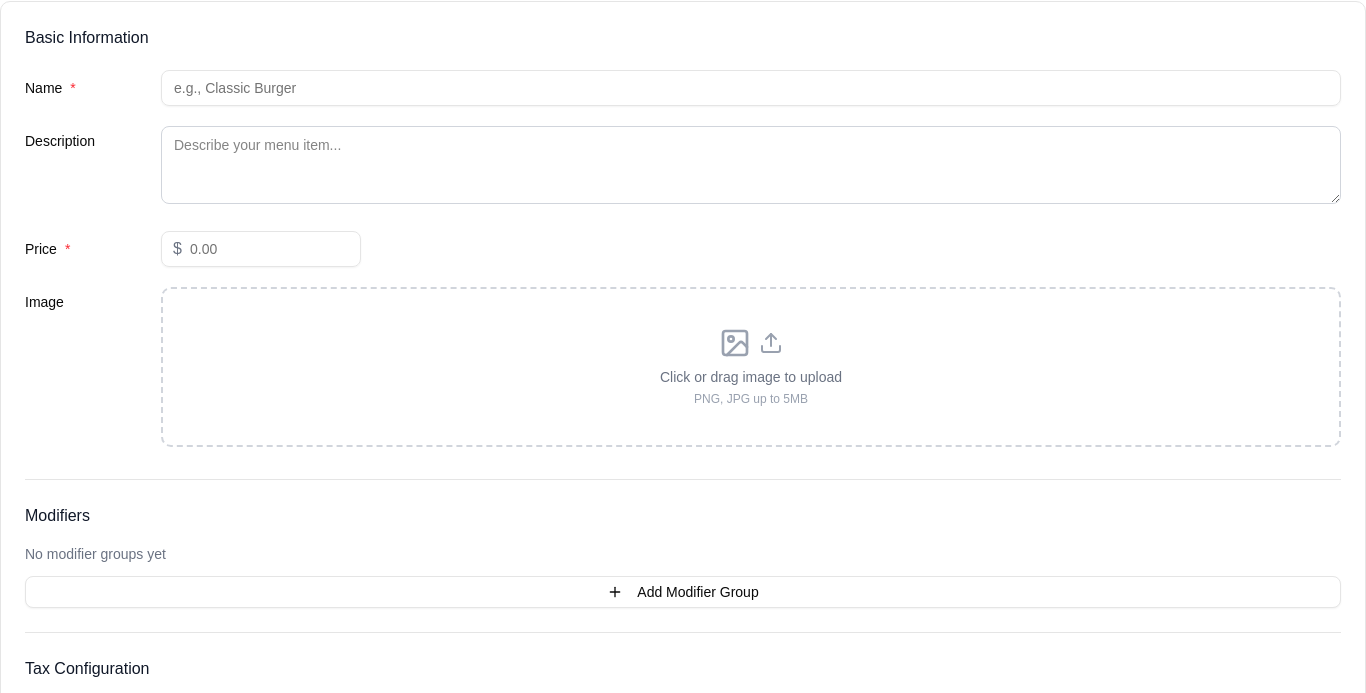
Test: MenuItemFormPage › Form Validation › should show error when price is empty
Type "Test Item" into the field labelled "Name *" at (751, 88), box [161,70,1341,106]
(page scrolled)
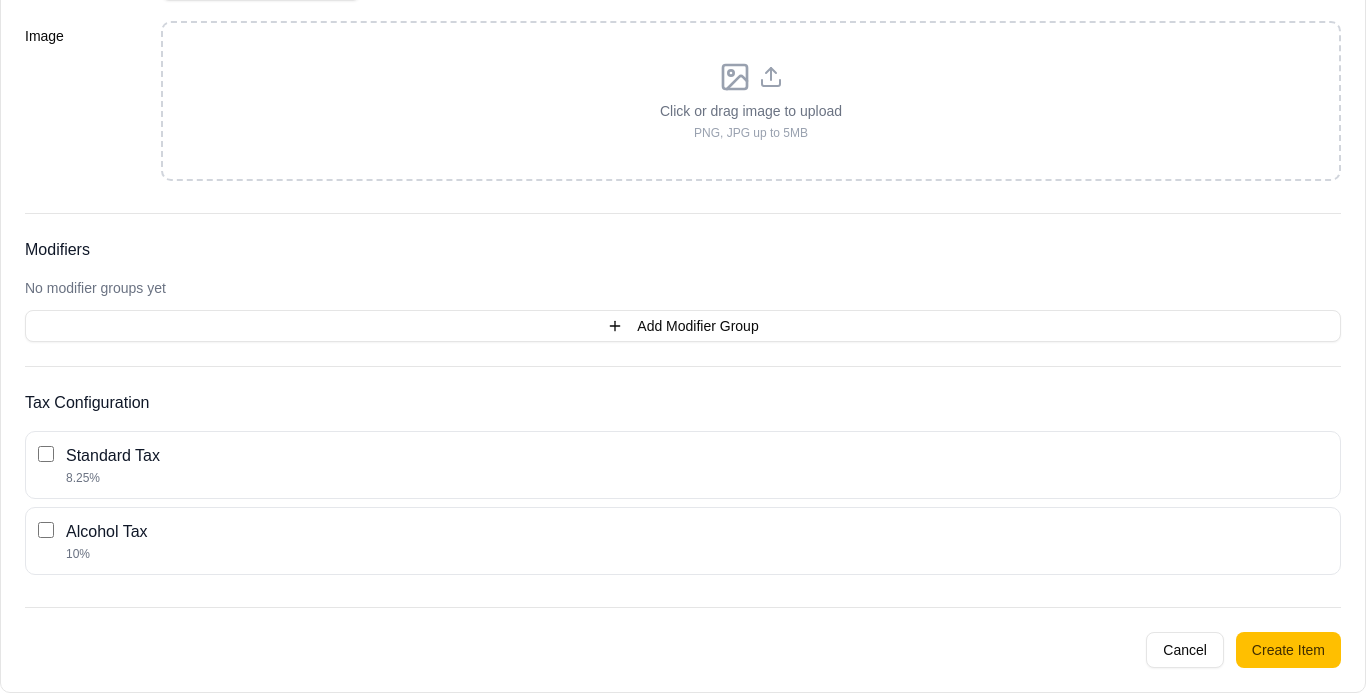
Click the button "Create Item" at (1288, 650), box [1236,632,1341,668]
(page scrolled)
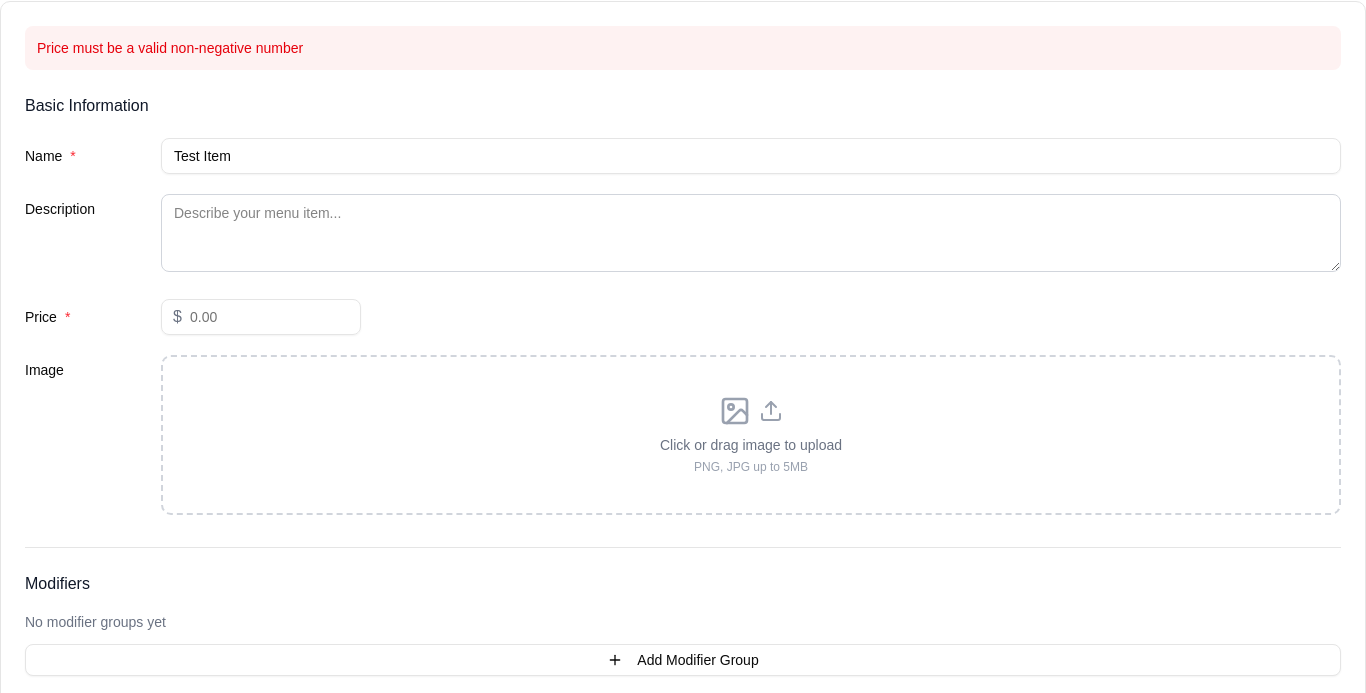
Check: the text "Price must be a valid non-negative number" is shown, box [25,26,1341,70]
